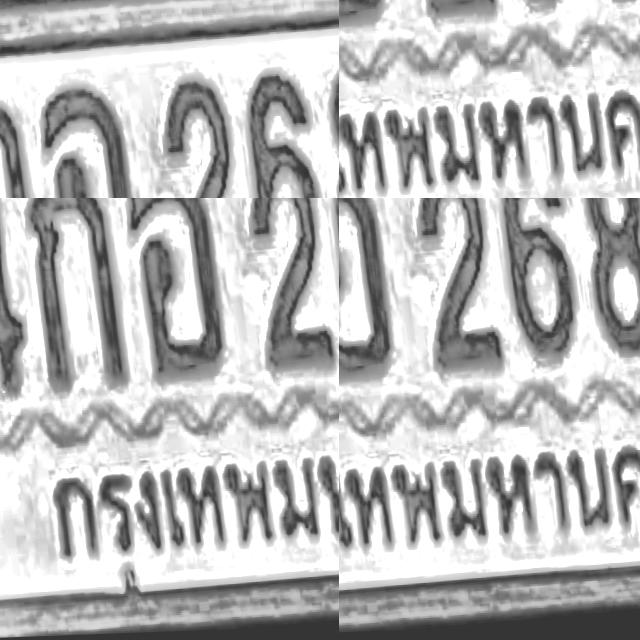license-plate: (339, 198, 640, 640), (0, 0, 129, 176)
